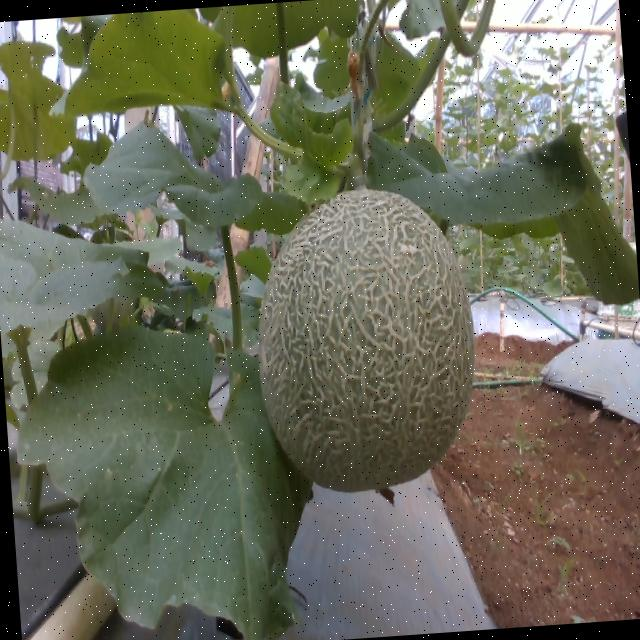melon: (260, 190, 475, 492)
